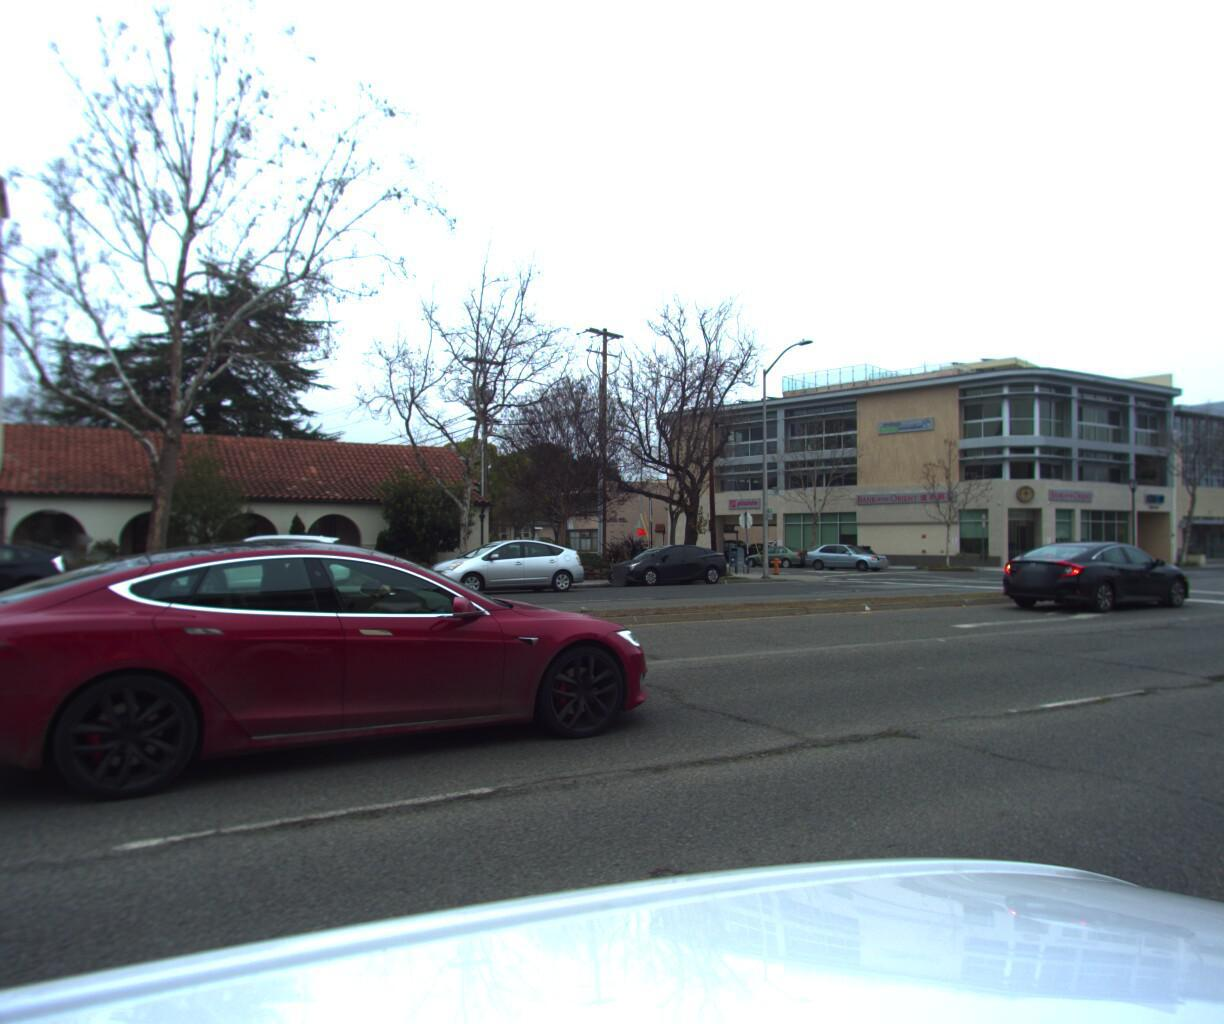car: (974, 530, 1194, 611), (155, 531, 361, 603), (420, 536, 587, 595), (597, 539, 733, 587), (797, 541, 889, 569), (741, 540, 813, 566)
